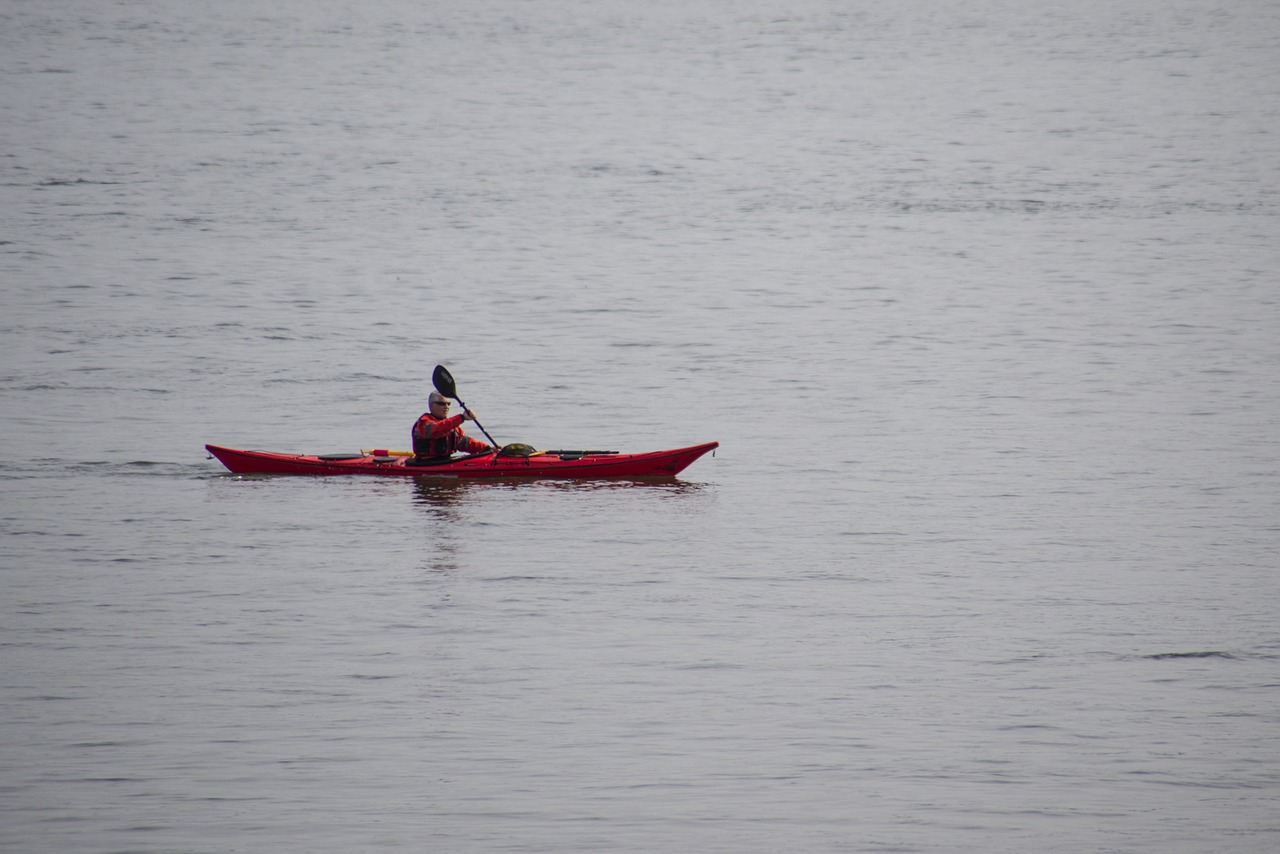kayak: (202, 435, 722, 483)
